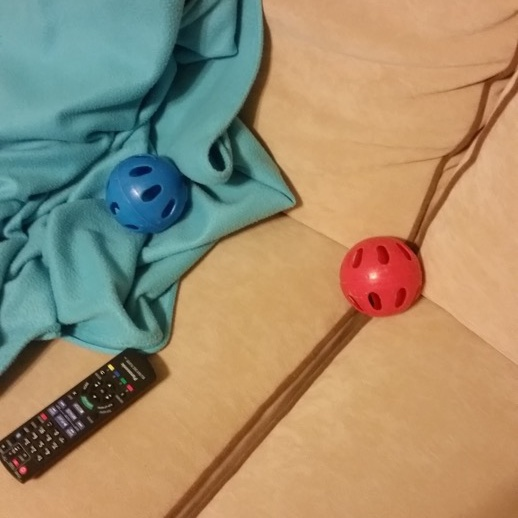blueball: (101, 150, 193, 237)
redball: (338, 232, 428, 318)
